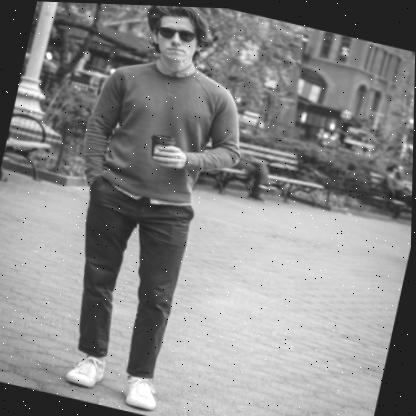person: (29, 1, 272, 416)
